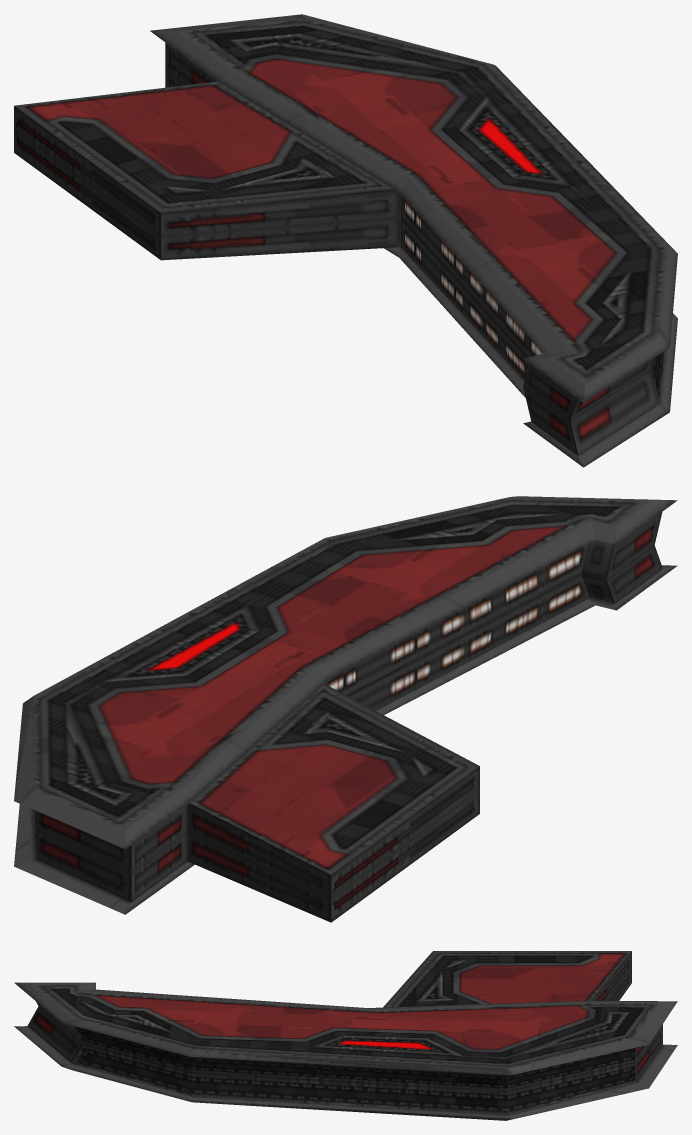
File: BFP_ForWingHull_Left.FBX
3 views of the same model, one above another, from view 1: azimuth 30°, elevation 25°; view 2: azimuth 150°, elevation 25°; view 3: azimuth 270°, elevation 25° (orthographic). The views are drawn at different scales.
Visible parts, largest first — view 1: BFP_ForWingHull_Left; view 2: BFP_ForWingHull_Left; view 3: BFP_ForWingHull_Left.
Part boxes in pixels (left/top/right/bottom): BFP_ForWingHull_Left: left=14, top=14, right=677, bottom=467; BFP_ForWingHull_Left: left=14, top=496, right=677, bottom=922; BFP_ForWingHull_Left: left=14, top=951, right=677, bottom=1120.
Bounding box in the file's own units: 691 × 129 × 1492.
Materials: 1 (1 with a texture image).
